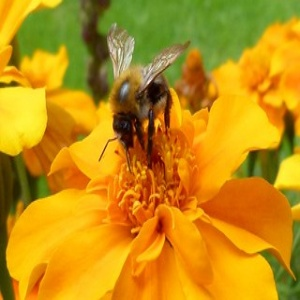bee: (103, 21, 188, 172)
